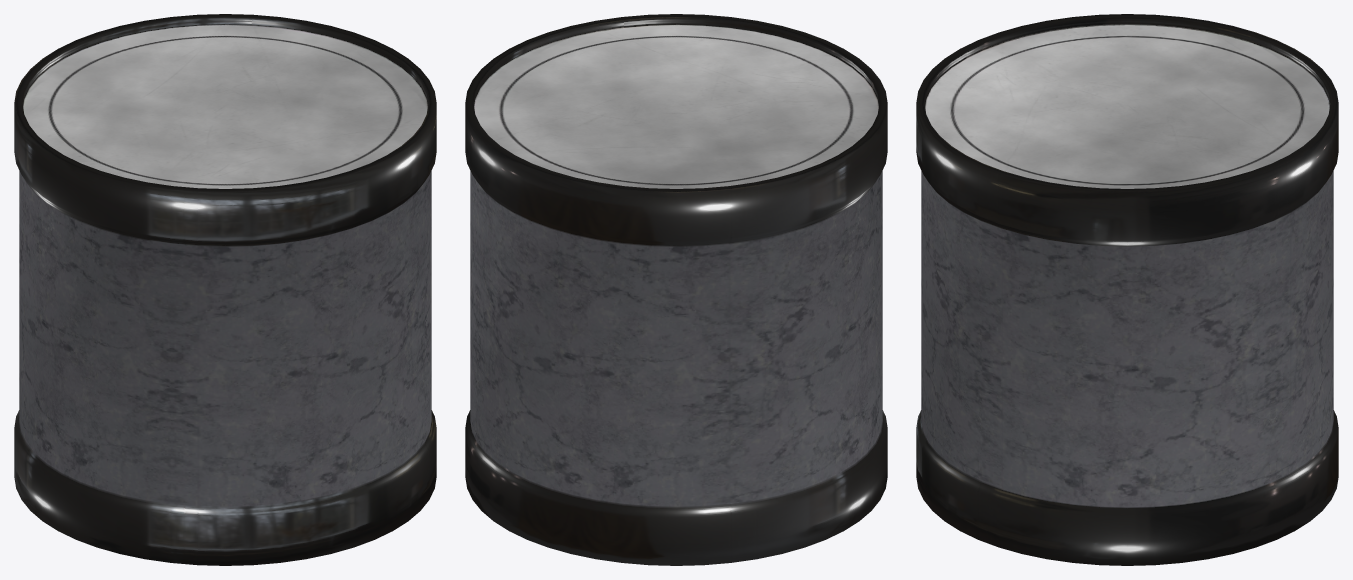
File: drum.glb
3 renders of one model, left to right at view 1: azimuth 30°, elevation 25°; view 2: azimuth 150°, elevation 25°; view 3: azimuth 270°, elevation 25°, orthographic.
Parts seen in each view (by area): view 1: Cylinder.001_Baked; view 2: Cylinder.001_Baked; view 3: Cylinder.001_Baked.
Part boxes in pixels (box(x1,y1,x2,y2)): Cylinder.001_Baked: box(14, 14, 436, 565); Cylinder.001_Baked: box(465, 14, 887, 565); Cylinder.001_Baked: box(916, 14, 1338, 565).
Bounding box in the file's own units: 1.02 × 1 × 1.02.
1 material, 1 textured.
